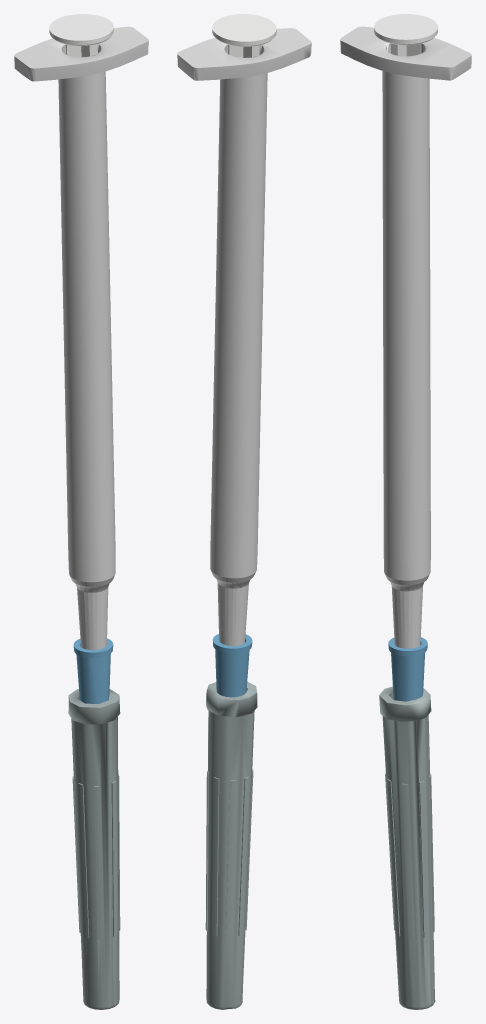
File: syringe.fbx
The picture shows the model from 3 angles, left to right: view 1: azimuth 30°, elevation 25°; view 2: azimuth 210°, elevation 25°; view 3: azimuth 330°, elevation 25°; orthographic projection.
Visible parts, largest first — view 1: syringe_body, syringe_cap, syringe_plunger, Syringe_needle; view 2: syringe_body, syringe_cap, syringe_plunger, Syringe_needle; view 3: syringe_body, syringe_cap, syringe_plunger, Syringe_needle.
Boxes of the visible parts, x1=… form: syringe_body: x1=14, y1=26, x2=148, y2=650; syringe_cap: x1=68, y1=688, x2=120, y2=1009; syringe_plunger: x1=49, y1=14, x2=113, y2=57; Syringe_needle: x1=73, y1=638, x2=113, y2=703; syringe_body: x1=177, y1=28, x2=311, y2=645; syringe_cap: x1=205, y1=682, x2=257, y2=1009; syringe_plunger: x1=212, y1=14, x2=276, y2=57; Syringe_needle: x1=212, y1=634, x2=252, y2=697; syringe_body: x1=340, y1=26, x2=471, y2=648; syringe_cap: x1=379, y1=686, x2=435, y2=1009; syringe_plunger: x1=374, y1=14, x2=437, y2=56; Syringe_needle: x1=388, y1=637, x2=427, y2=701.
Bounding box in the file's own units: 182 × 1442 × 99.19.
